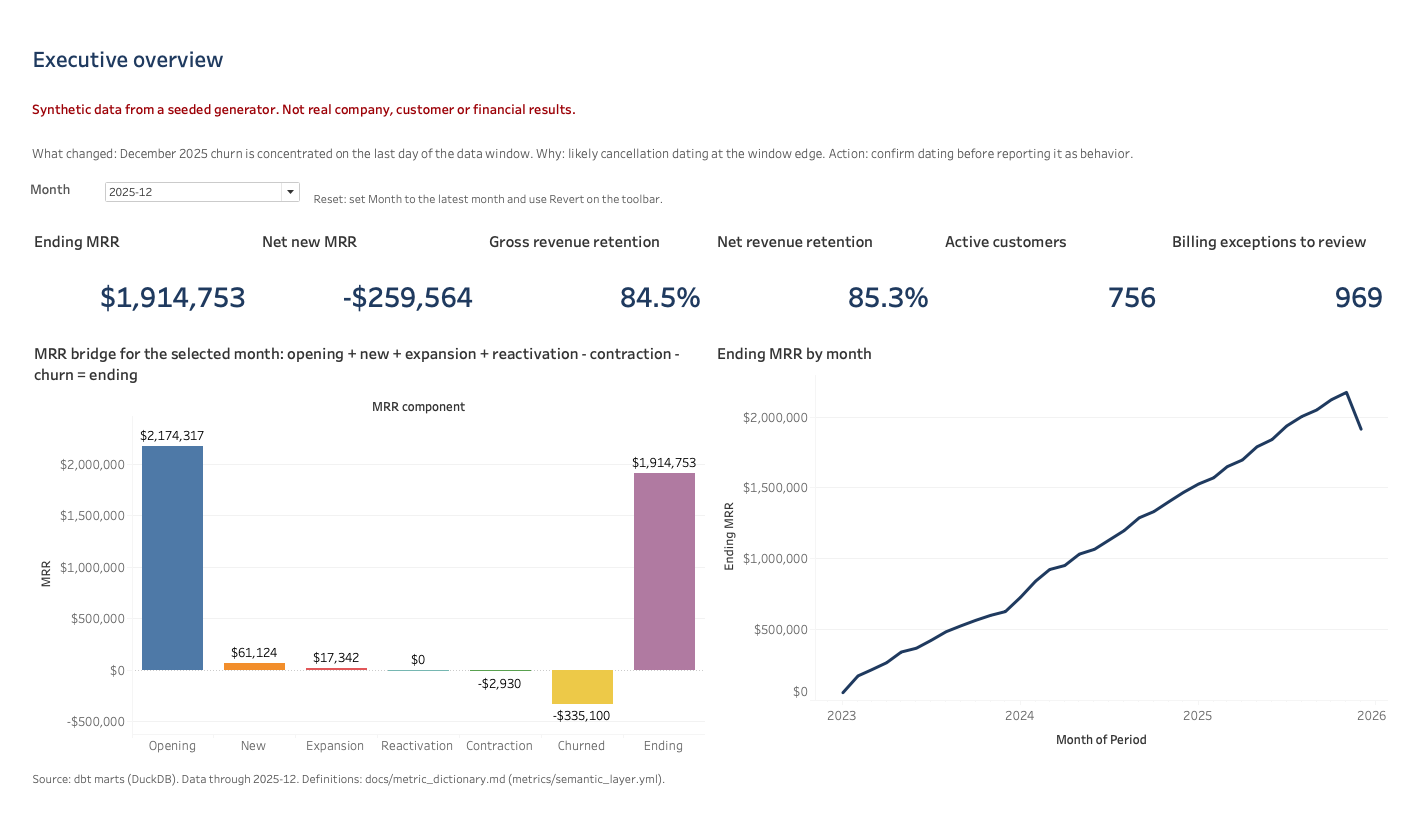

This screenshot's page, from the dashboard's own definition file:
{"tool":"tableau","page":{"name":"Executive overview","canvas":[1366,768],"ordinal":0},"visuals":[{"type":"text","box":[0,0,1366,72]},{"type":"text","box":[0,72,1366,36]},{"type":"text","box":[0,108,1366,36]},{"type":"parameter","param":"[Parameters].[month_param]","box":[0,144,273.2,48]},{"type":"text","box":[273.2,144,1092.8,48]},{"type":"worksheet","title":"KPI Ending MRR","mark":"Text","box":[0,192,227.7,112]},{"type":"worksheet","title":"KPI Net new MRR","mark":"Text","box":[227.7,192,227.7,112]},{"type":"worksheet","title":"KPI Gross revenue retention","mark":"Text","box":[455.3,192,227.7,112]},{"type":"worksheet","title":"KPI Net revenue retention","mark":"Text","box":[683,192,227.7,112]},{"type":"worksheet","title":"KPI Active customers","mark":"Text","box":[910.7,192,227.7,112]},{"type":"worksheet","title":"KPI Billing exceptions","mark":"Text","box":[1138.4,192,227.6,112]},{"type":"worksheet","title":"MRR bridge","mark":"Bar","rows":["value"],"cols":["component"],"box":[0,304,683,432]},{"type":"worksheet","title":"Ending MRR trend","mark":"Line","rows":["closing_mrr"],"cols":["month_start"],"box":[683,304,683,432]},{"type":"text","box":[0,736,1366,32]}]}

Visuals, with their boxes on the page's 1366x768 design canvas (x1, y1, x2, y2). These are canvas units, not pixel positions in the 1424x826 screenshot, which may show the page scaled, cropped or inside an application window:
text: left=0, top=0, right=1366, bottom=72
text: left=0, top=72, right=1366, bottom=108
text: left=0, top=108, right=1366, bottom=144
parameter: left=0, top=144, right=273, bottom=192
text: left=273, top=144, right=1366, bottom=192
"KPI Ending MRR" worksheet (Text marks): left=0, top=192, right=228, bottom=304
"KPI Net new MRR" worksheet (Text marks): left=228, top=192, right=455, bottom=304
"KPI Gross revenue retention" worksheet (Text marks): left=455, top=192, right=683, bottom=304
"KPI Net revenue retention" worksheet (Text marks): left=683, top=192, right=911, bottom=304
"KPI Active customers" worksheet (Text marks): left=911, top=192, right=1138, bottom=304
"KPI Billing exceptions" worksheet (Text marks): left=1138, top=192, right=1366, bottom=304
"MRR bridge" worksheet (Bar marks): left=0, top=304, right=683, bottom=736
"Ending MRR trend" worksheet (Line marks): left=683, top=304, right=1366, bottom=736
text: left=0, top=736, right=1366, bottom=768
